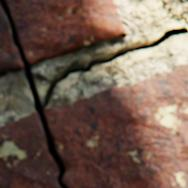broken_brick: (44, 66, 187, 187), (3, 0, 126, 65), (0, 113, 60, 187), (0, 5, 24, 77)
crack: (0, 0, 187, 187)
